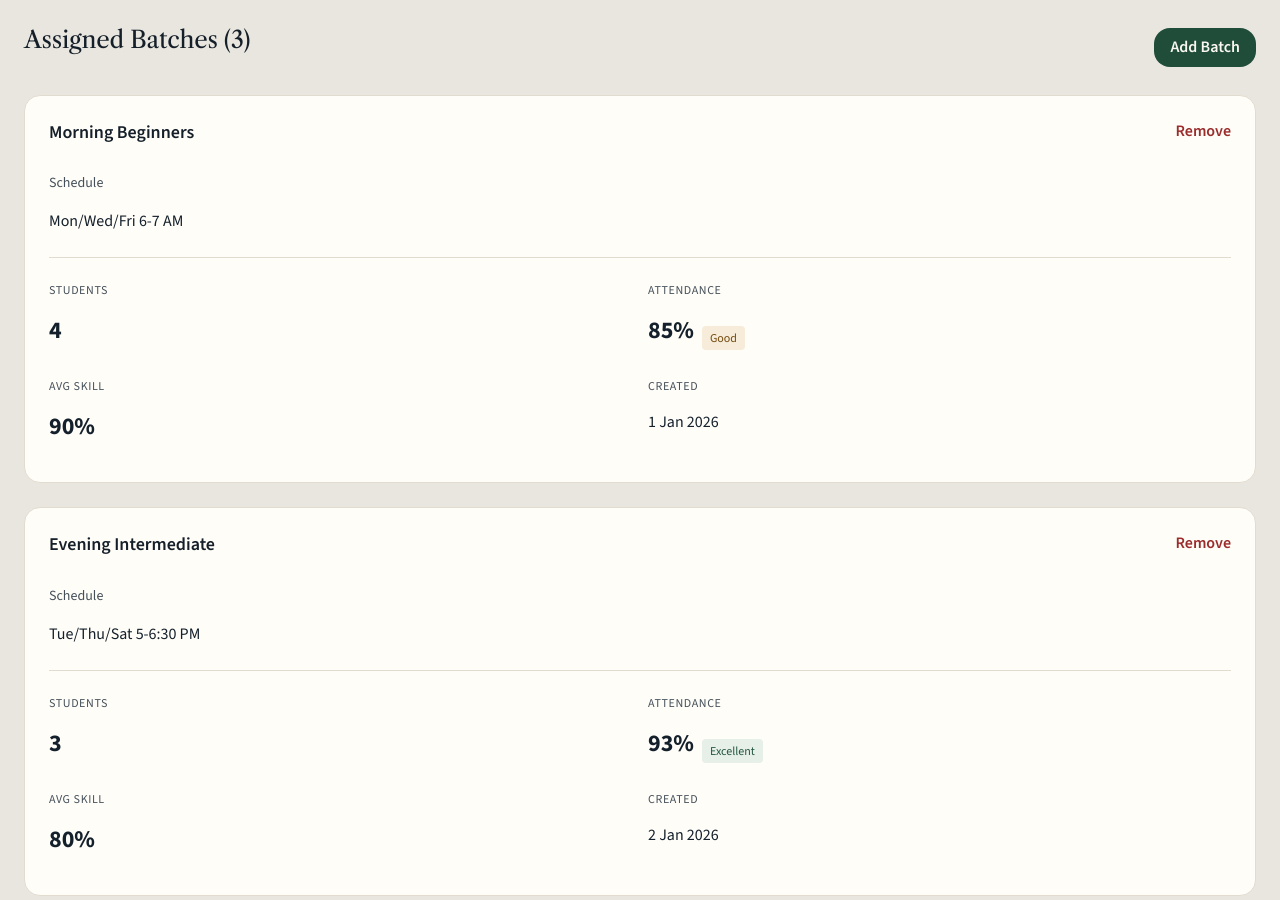
Test: CoachBatchesTab › Requirement 6.4-6.6: Batch unassignment functionality (HEAD_COACH only) › shows batch details in confirmation dialog with student count
Click Remove button for second batch
Click the 2nd button "Remove": [1203, 544] box x1=1176 y1=532 x2=1231 y2=555
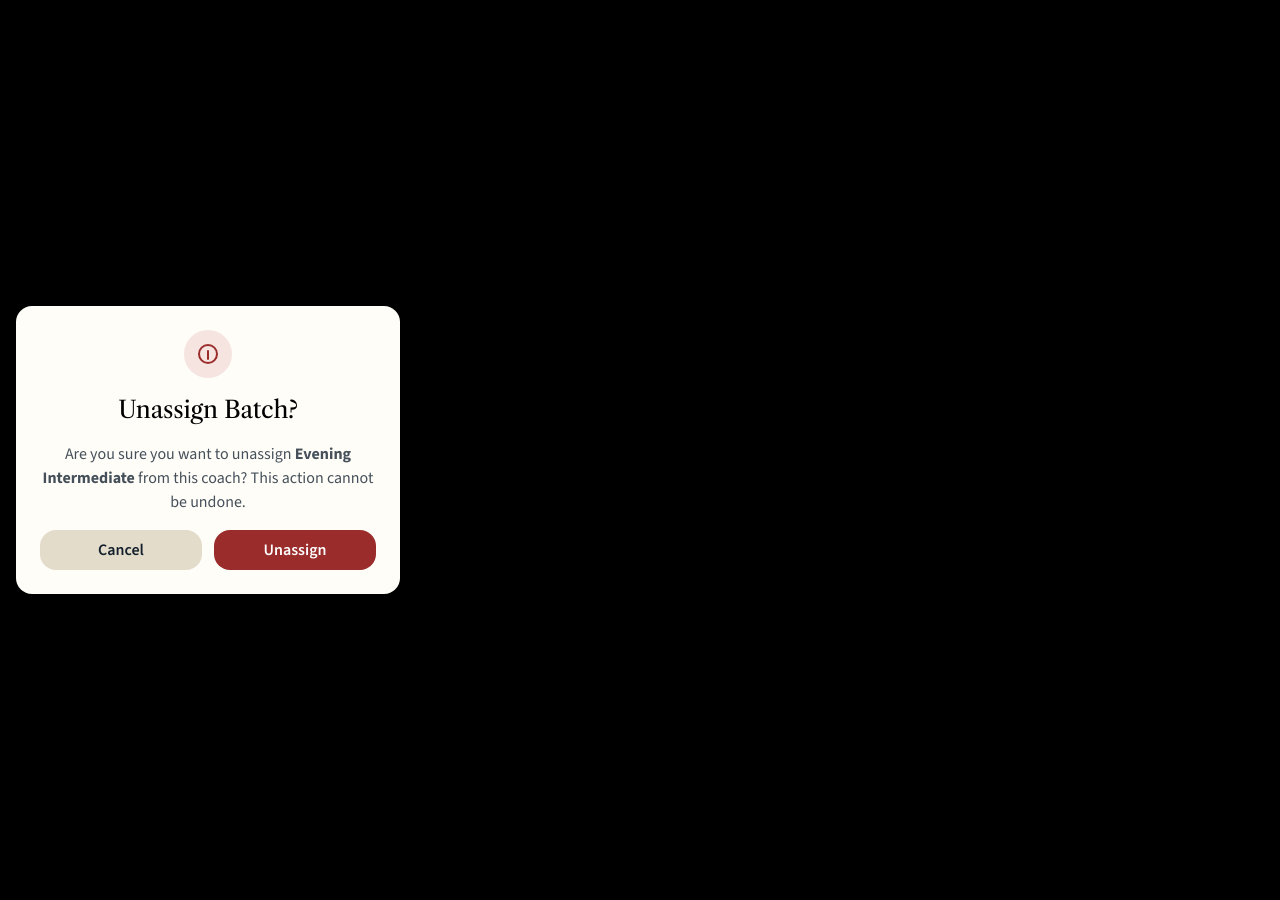
Now the text "Are you sure you want to unassign" is shown, box x1=65 y1=443 x2=295 y2=464
Now the text "This action cannot be undone" is shown, box x1=135 y1=467 x2=373 y2=512
